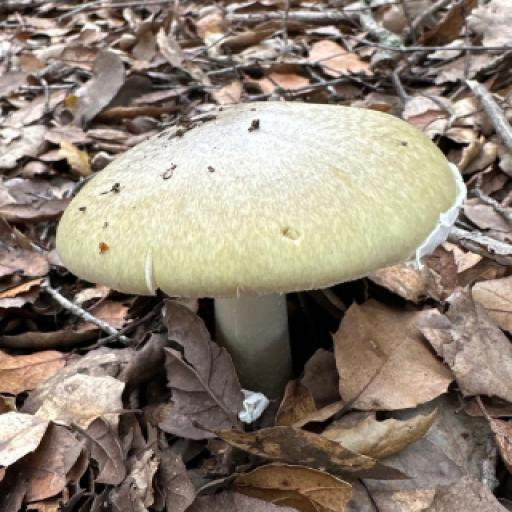Death Cap: (35, 0, 484, 437)
